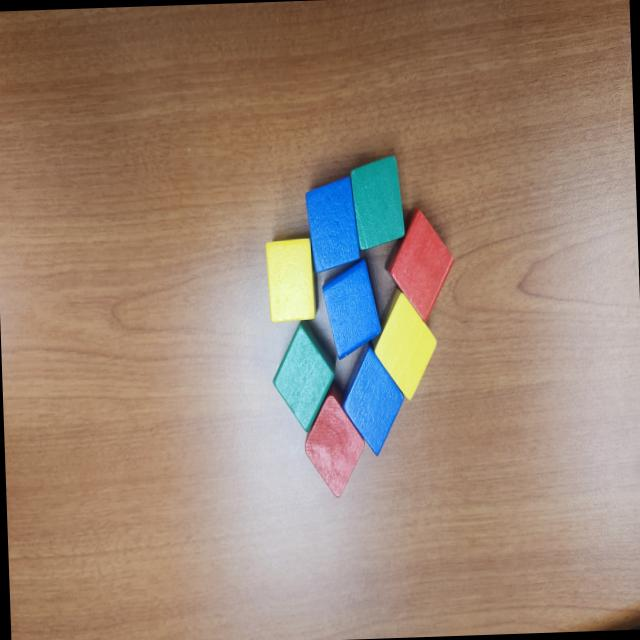blue: (336, 342, 406, 458), (320, 254, 382, 360), (303, 175, 360, 276)
green: (268, 320, 337, 437), (348, 152, 407, 252)
red: (384, 205, 456, 326), (302, 384, 366, 498)
yellow: (370, 288, 440, 402), (265, 236, 320, 324)
